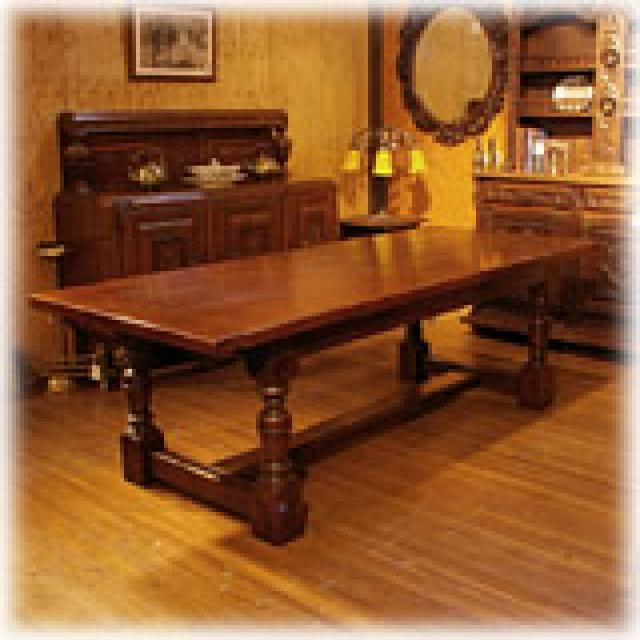table: (31, 217, 612, 554)
